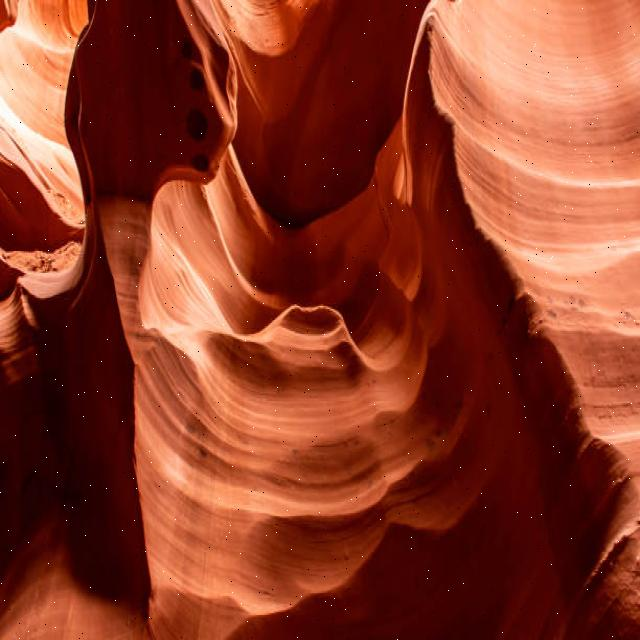Sedimentary: (1, 1, 639, 637)
